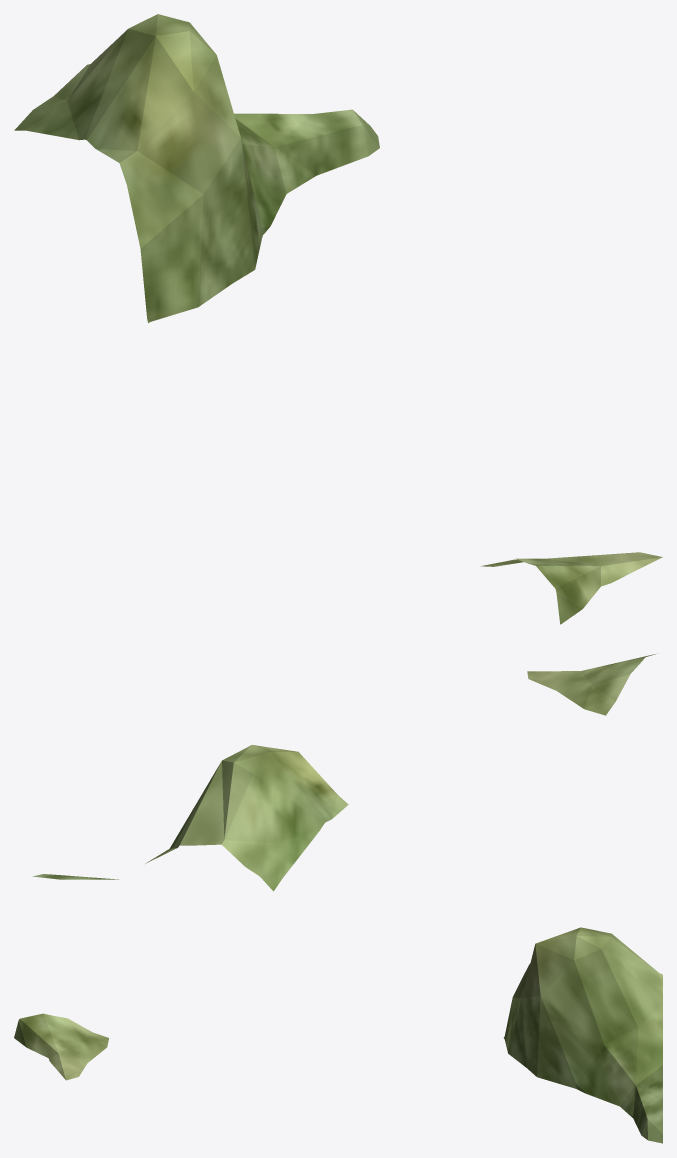
3 renders of one model, top to bottom at view 1: azimuth 30°, elevation 25°; view 2: azimuth 150°, elevation 25°; view 3: azimuth 270°, elevation 25°, orthographic. The views are drawn at different scales.
Bounding box in the file's own units: 0.5401 × 0.3146 × 1.4.
1 material, 1 textured.
